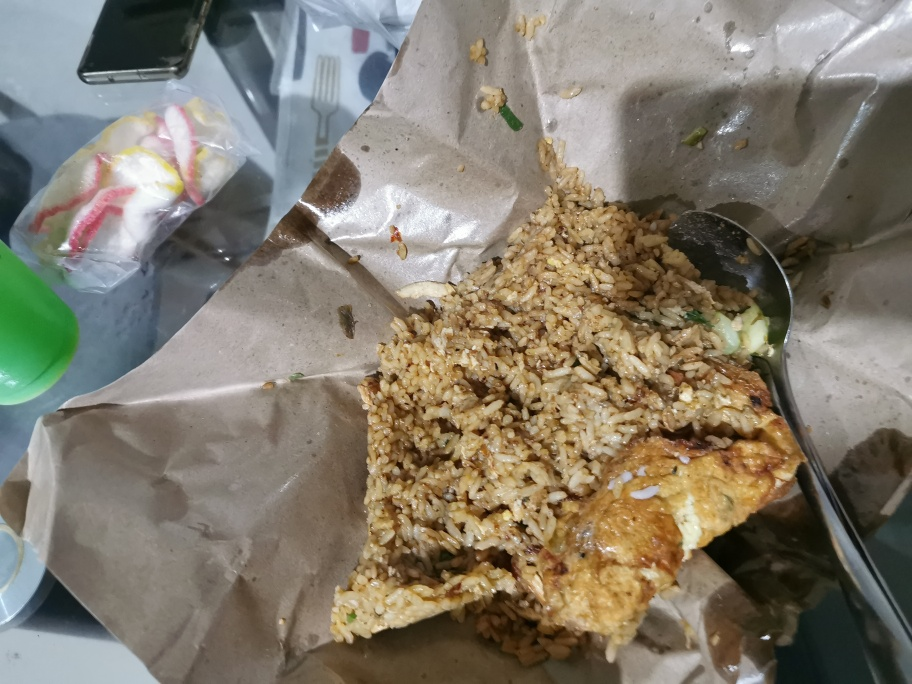nasi goreng: (318, 167, 795, 644)
